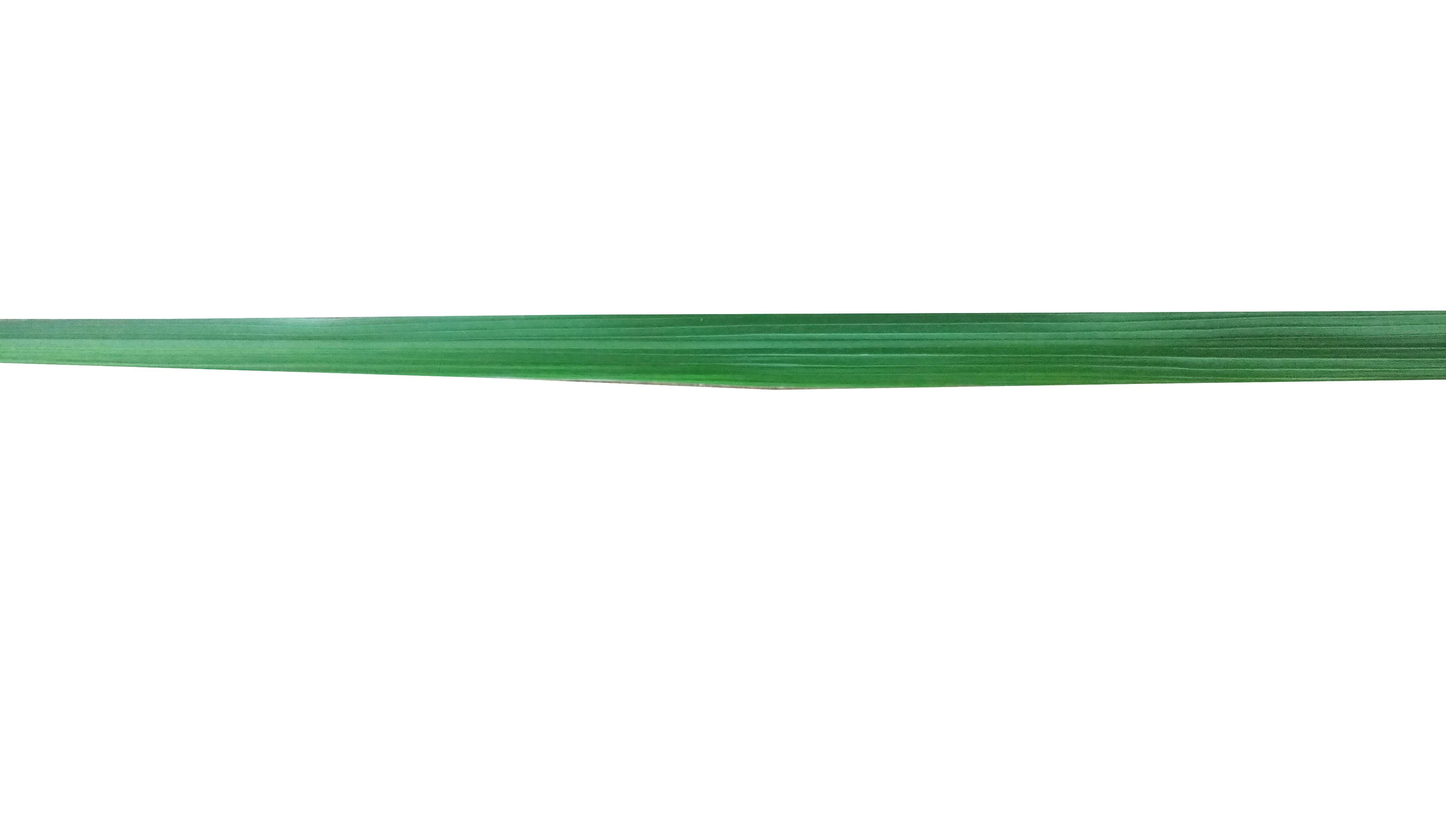Healthy: (0, 316, 1446, 393)
